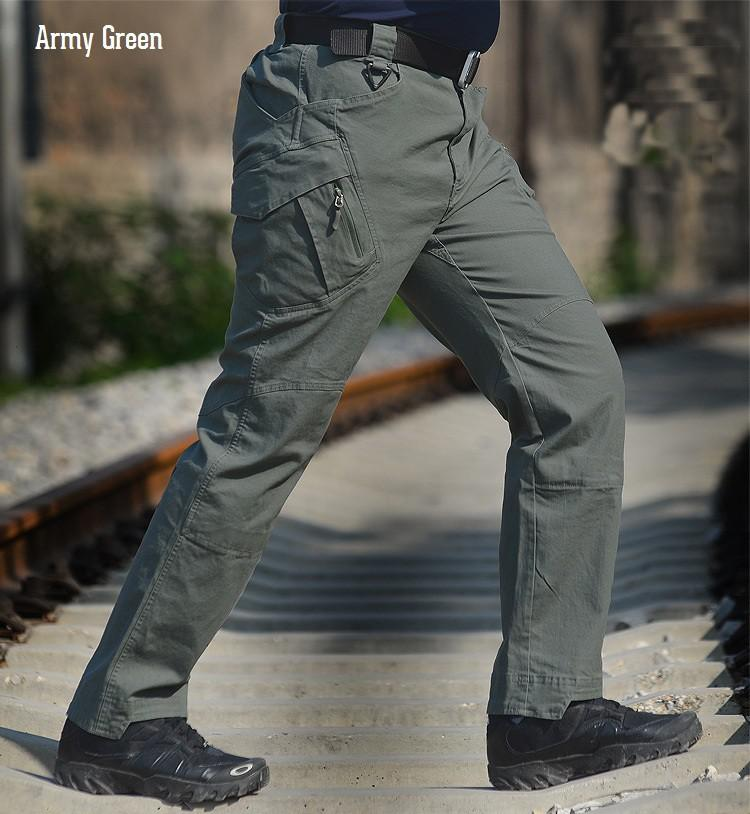pants: (84, 55, 608, 732)
